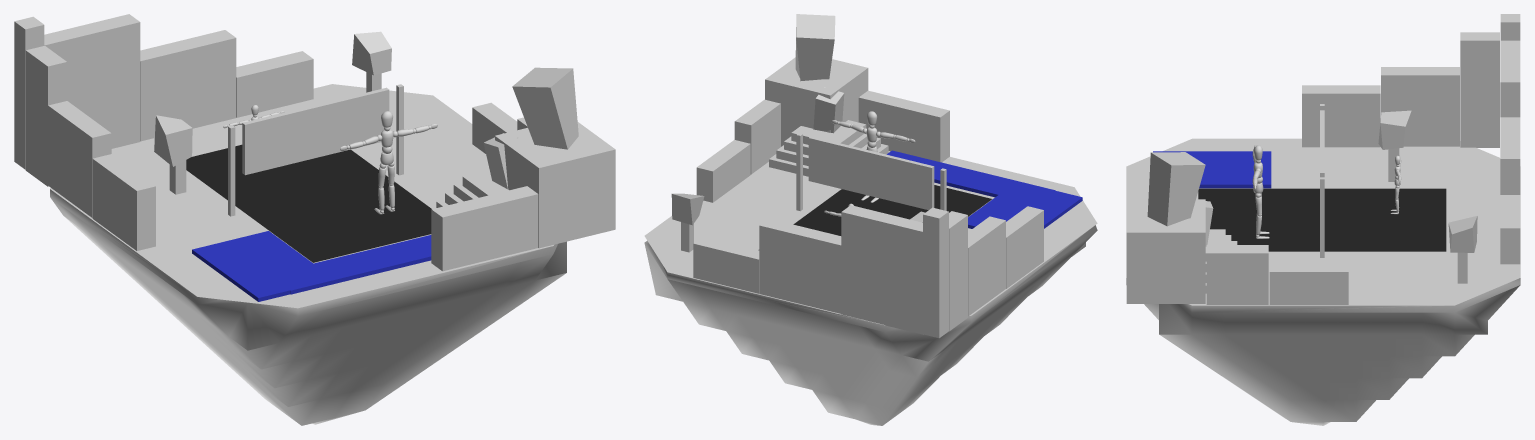
Rendered from Overworld.fbx.
3 views of the same model, side by side, from view 1: azimuth 30°, elevation 25°; view 2: azimuth 150°, elevation 25°; view 3: azimuth 270°, elevation 25° (orthographic). The views are drawn at different scales.
Visible parts, largest first — view 1: Ground, Field, Mountain_12, Mountain, Mountain_1, Net, Mountain_6, Mountain_4, Water_1, Mountain_10, Rock_1, Water (+10 smaller); view 2: Ground, Mountain, Mountain_1, Net, Mountain_12, Mountain_6, Mountain_11, Field, Mountain_4, Mountain_2, Water_1, Rock_1 (+10 smaller); view 3: Ground, Field, Mountain_12, Mountain_4, Mountain_10, Mountain_3, Mountain_14, Rock_1, Mountain_9, Water_1, Mountain_1, Mountain (+6 smaller).
Part boxes in pixels (left/top/right/bottom): Ground: left=50, top=84, right=566, bottom=425; Field: left=186, top=144, right=431, bottom=262; Mountain_12: left=495, top=122, right=615, bottom=248; Mountain: left=44, top=14, right=140, bottom=148; Mountain_1: left=140, top=30, right=236, bottom=141; Net: left=242, top=87, right=389, bottom=175; Mountain_6: left=431, top=186, right=538, bottom=271; Mountain_4: left=48, top=101, right=111, bottom=217; Water_1: left=192, top=231, right=324, bottom=301; Mountain_10: left=92, top=154, right=155, bottom=250; Rock_1: left=512, top=67, right=578, bottom=149; Water: left=269, top=235, right=431, bottom=294; Ground: left=644, top=151, right=1097, bottom=425; Mountain: left=841, top=205, right=923, bottom=334; Mountain_1: left=759, top=218, right=841, bottom=313; Net: left=808, top=136, right=934, bottom=210; Mountain_12: left=765, top=57, right=868, bottom=146; Mountain_6: left=858, top=90, right=949, bottom=162; Mountain_11: left=923, top=207, right=948, bottom=338; Field: left=758, top=185, right=991, bottom=250; Mountain_4: left=968, top=216, right=1005, bottom=316; Mountain_2: left=693, top=237, right=759, bottom=293; Water_1: left=968, top=181, right=1082, bottom=228; Rock_1: left=795, top=14, right=835, bottom=81; Ground: left=1126, top=138, right=1520, bottom=425; Field: left=1198, top=188, right=1446, bottom=251; Mountain_12: left=1126, top=199, right=1205, bottom=303; Mountain_4: left=1381, top=67, right=1459, bottom=146; Mountain_10: left=1302, top=85, right=1380, bottom=147; Mountain_3: left=1460, top=32, right=1499, bottom=147; Mountain_14: left=1206, top=245, right=1268, bottom=304; Rock_1: left=1147, top=152, right=1205, bottom=226; Mountain_9: left=1269, top=263, right=1348, bottom=304; Water_1: left=1153, top=151, right=1271, bottom=188; Mountain_1: left=1500, top=117, right=1520, bottom=194; Mountain: left=1500, top=40, right=1520, bottom=117.
Size of the model in its own units: 10 by 9.39 by 10.
